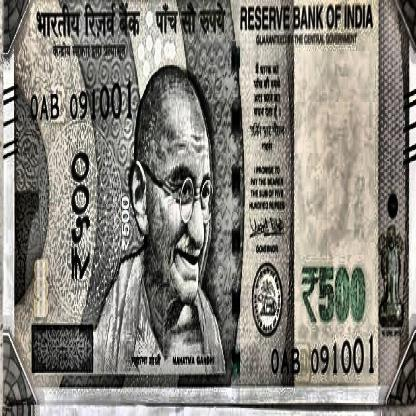Rs500: (297, 256, 371, 335)
